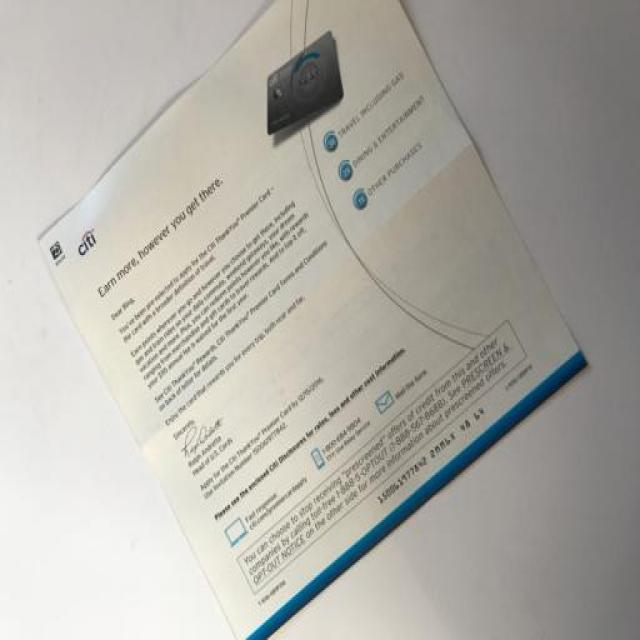paper: (32, 4, 610, 640)
